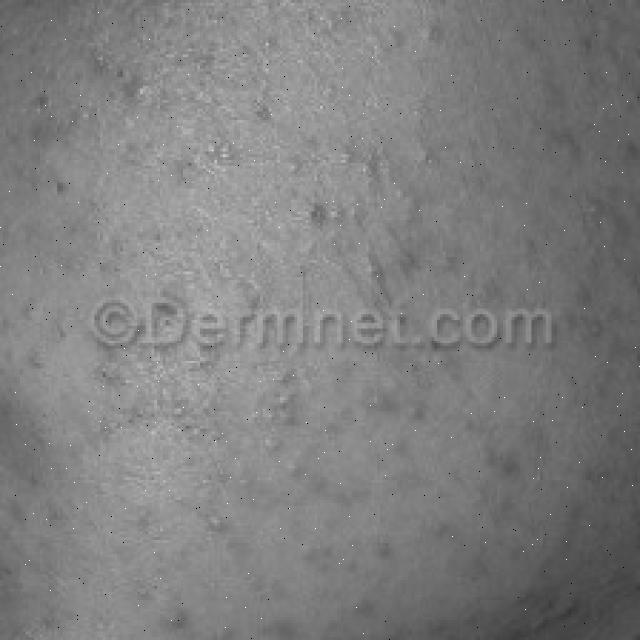Acne: (6, 29, 628, 623)
